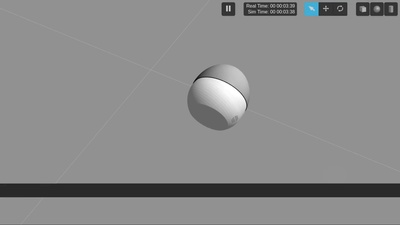mira_robot: (187, 64, 250, 131)
